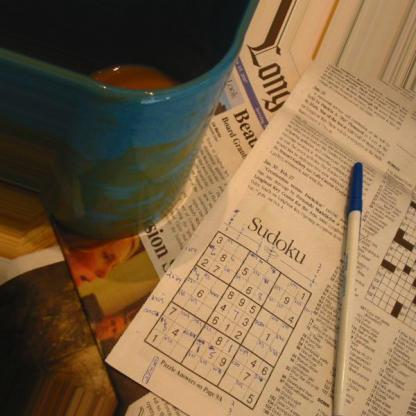sudoku: (139, 227, 315, 412)
